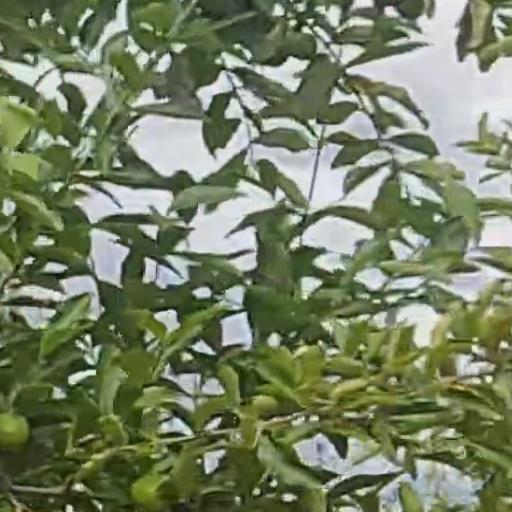acerola: (1, 415, 29, 452)
